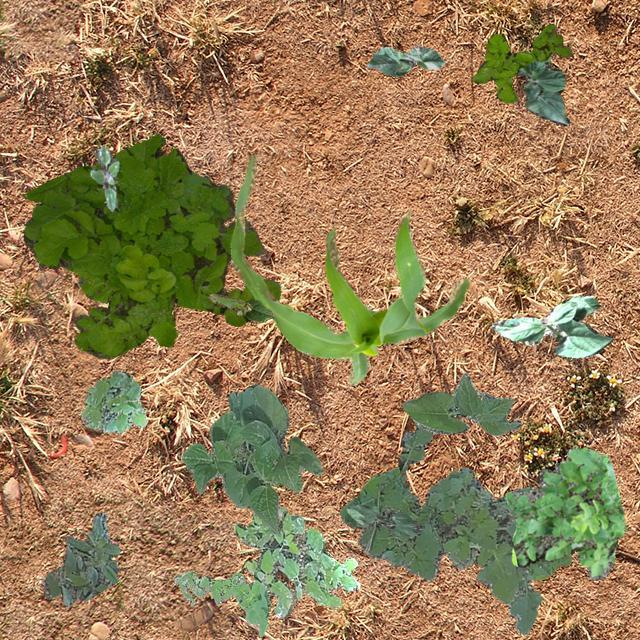crop: (228, 153, 468, 384), (180, 384, 322, 534), (491, 294, 612, 356), (402, 372, 520, 434), (516, 56, 568, 125), (346, 504, 420, 536), (366, 46, 444, 76), (208, 292, 274, 320)
weed: (22, 134, 280, 358), (338, 424, 542, 634), (504, 446, 626, 580), (232, 506, 358, 616), (470, 24, 570, 102), (42, 512, 118, 608), (172, 570, 270, 636), (80, 370, 144, 432), (452, 550, 570, 580), (90, 143, 120, 210), (94, 146, 100, 164)
